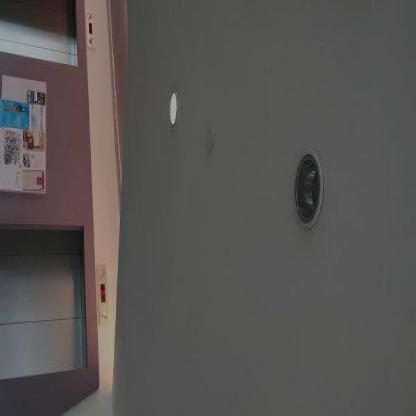light_off: (284, 131, 336, 244)
